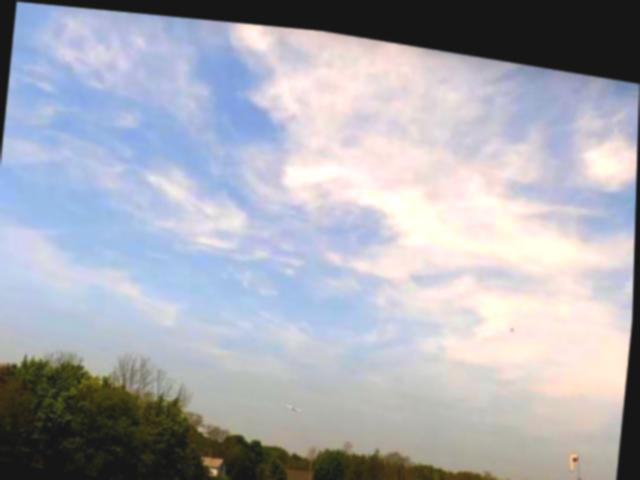iha: (282, 393, 313, 410)
